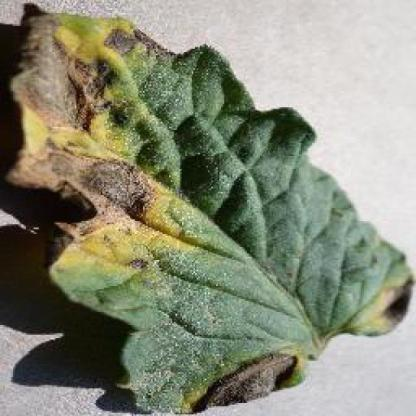Tomato_Blight: (8, 11, 414, 413)
